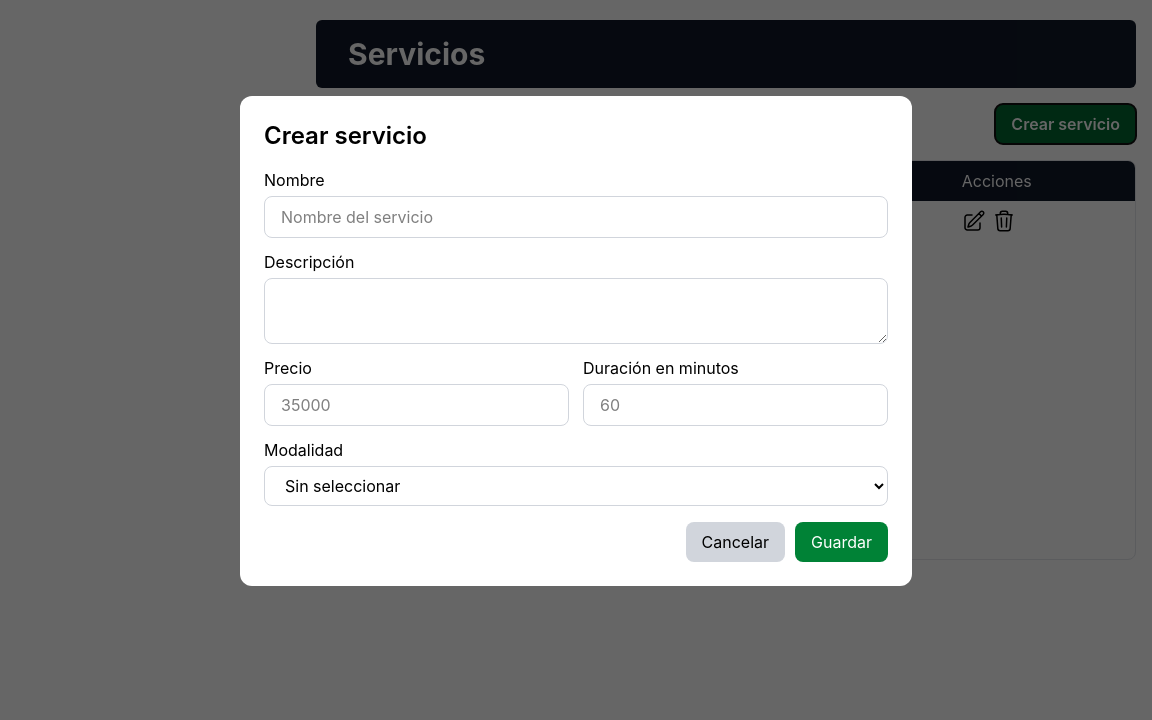
AdministracionServicios › crea un servicio y vuelve a leer la lista con el ID del servidor
The image size is (1152, 720).
Earlier steps of the test are not shown.
Type "Consulta online" into the field labelled "Nombre" at (576, 217), box [264, 196, 888, 238]
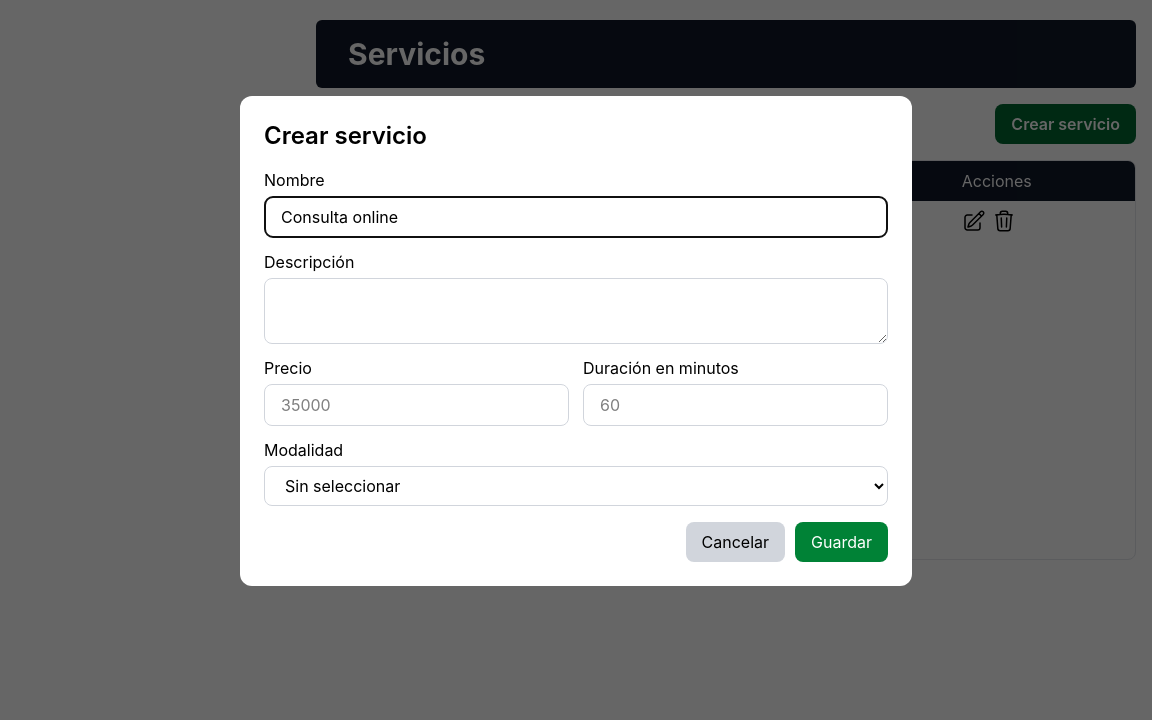
Type "Consulta por videollamada" into the text box labelled "Descripción" at (576, 311), box [264, 278, 888, 344]
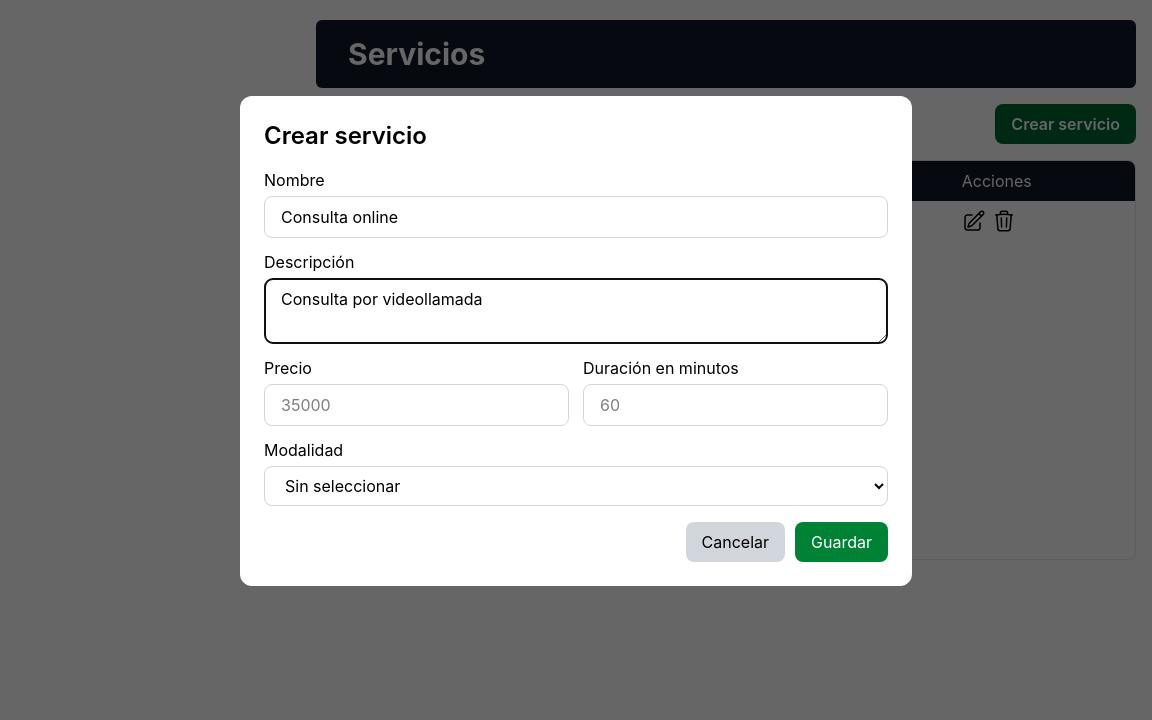
Type "30000" into the number field labelled "Precio" at (416, 405), box [264, 384, 569, 426]
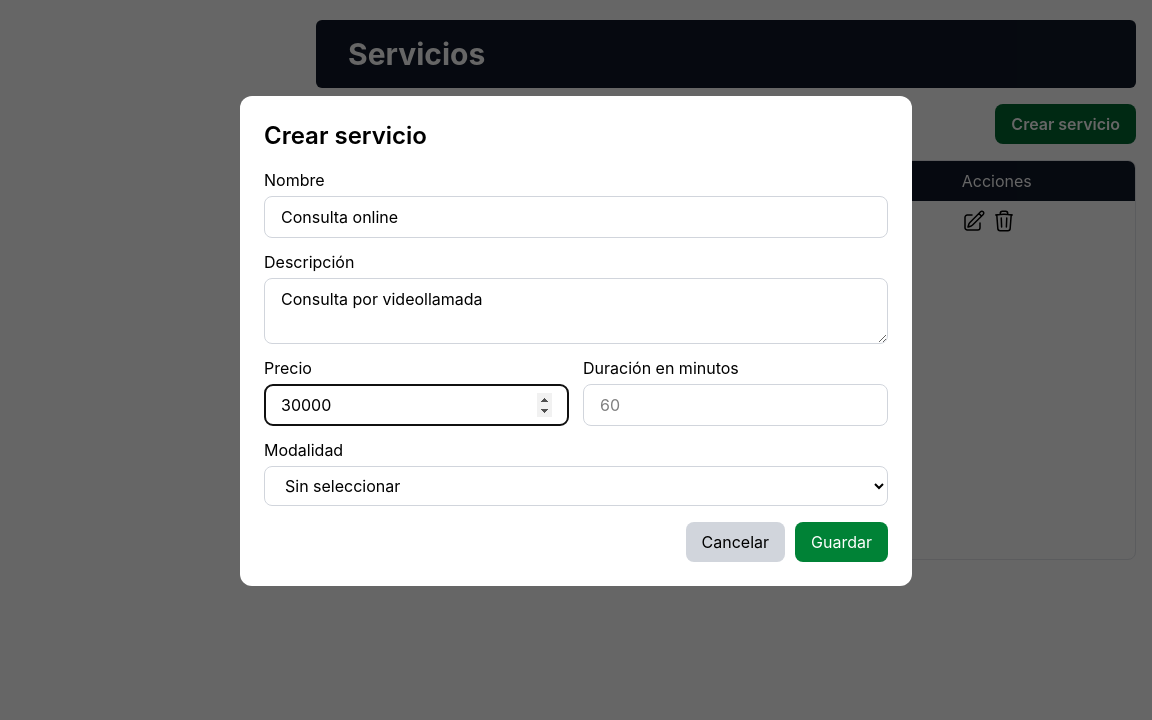
Type "45" into the number field labelled "Duración en minutos" at (736, 405), box [583, 384, 888, 426]
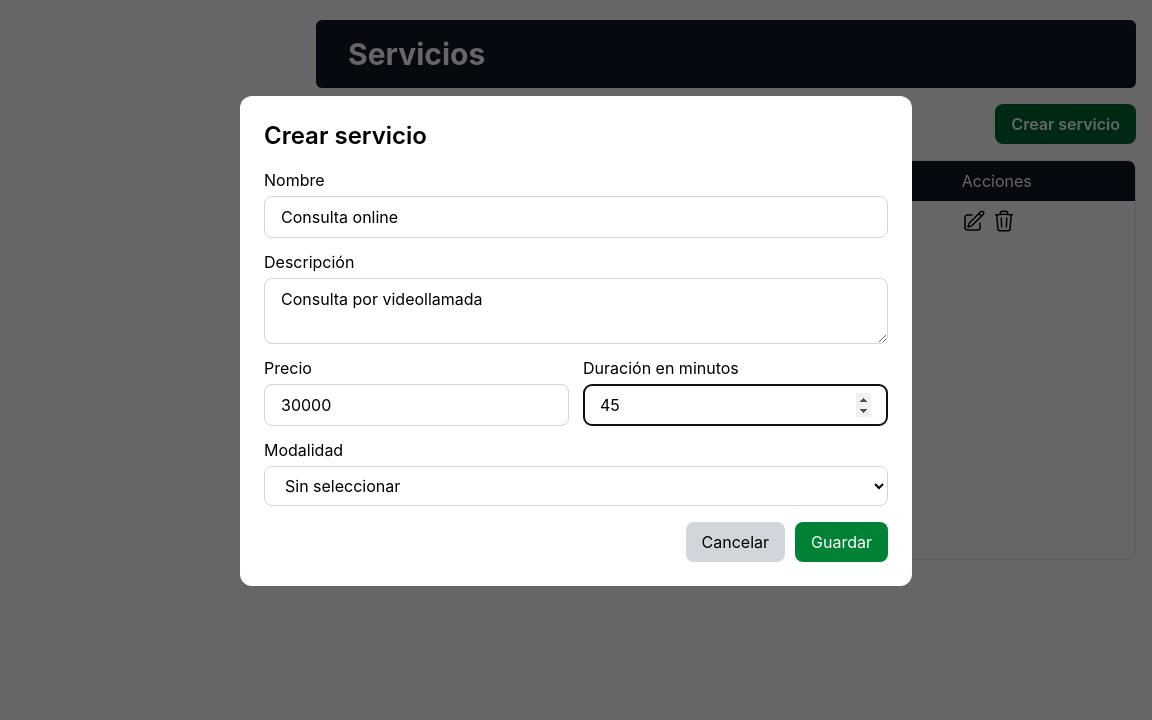
Select "Online" in the dropdown labelled "Modalidad" at (576, 486), box [264, 466, 888, 506]
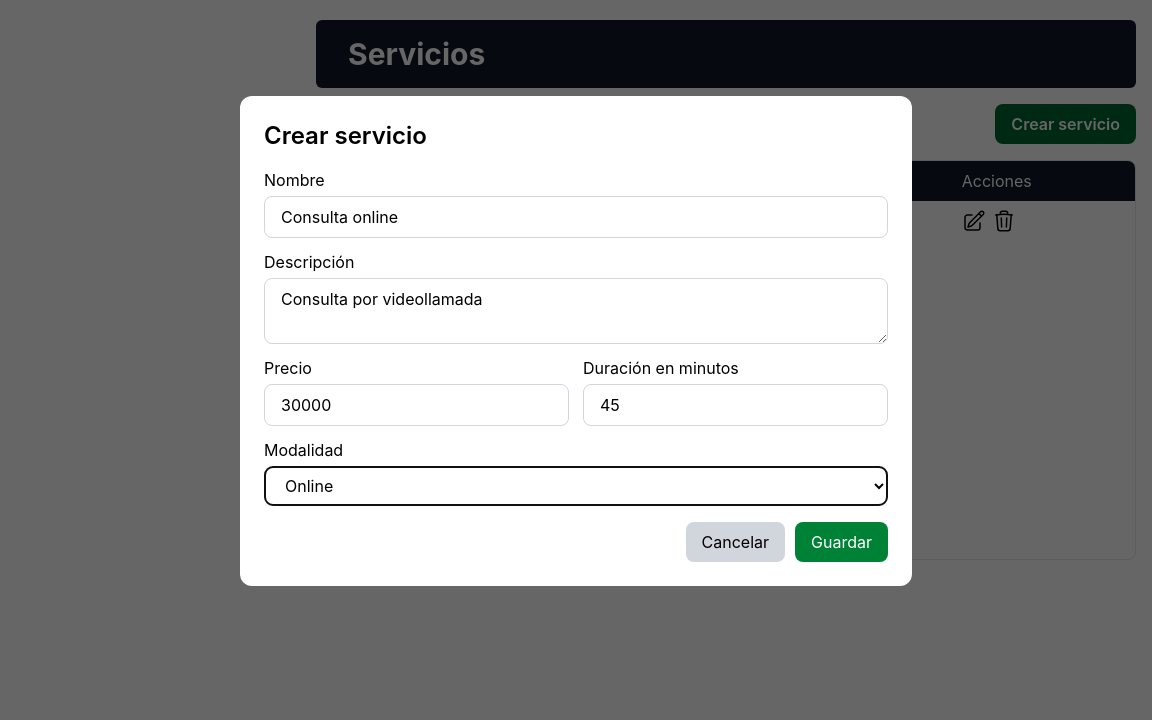
Click the button "Guardar" at (842, 542), box [795, 522, 888, 562]
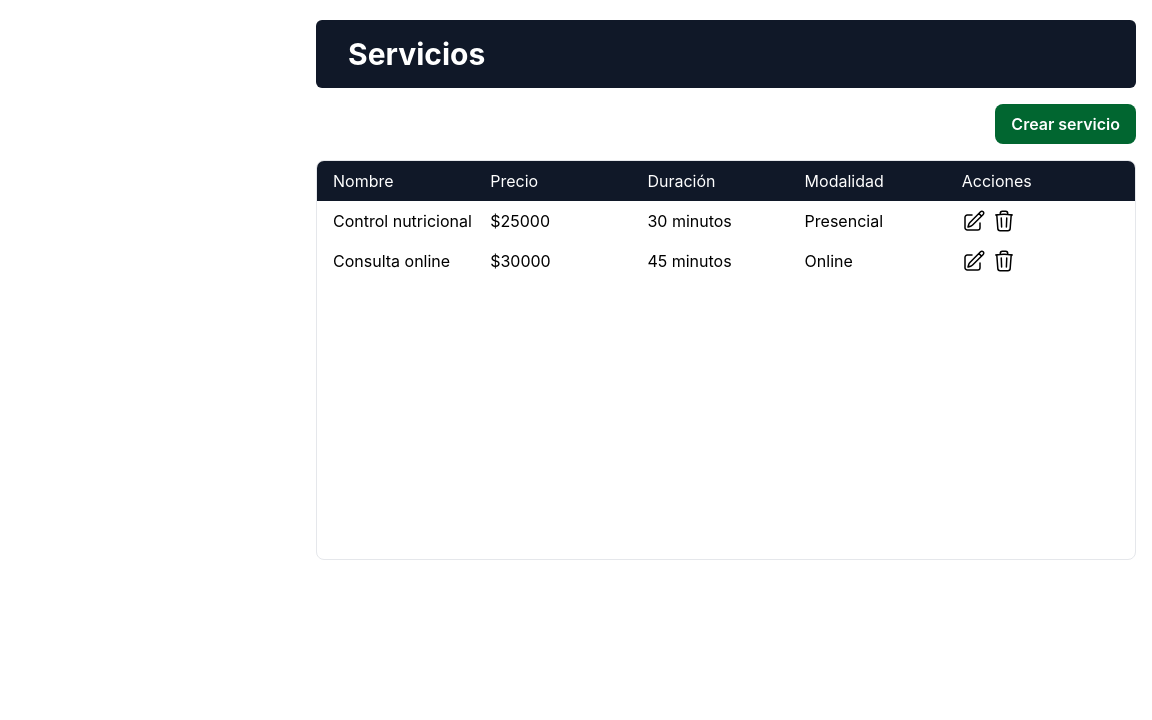
Now the text "Consulta online" is shown, box [333, 251, 450, 271]
Now the dialog is gone
